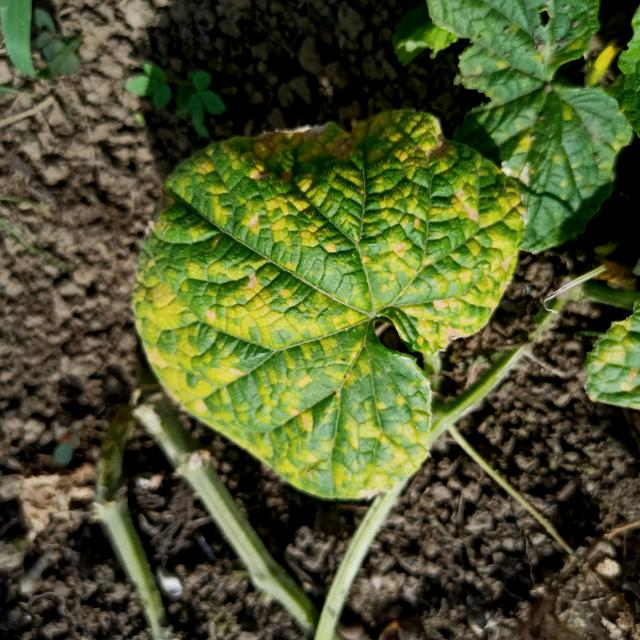disease_cucumber: (136, 125, 522, 498)
